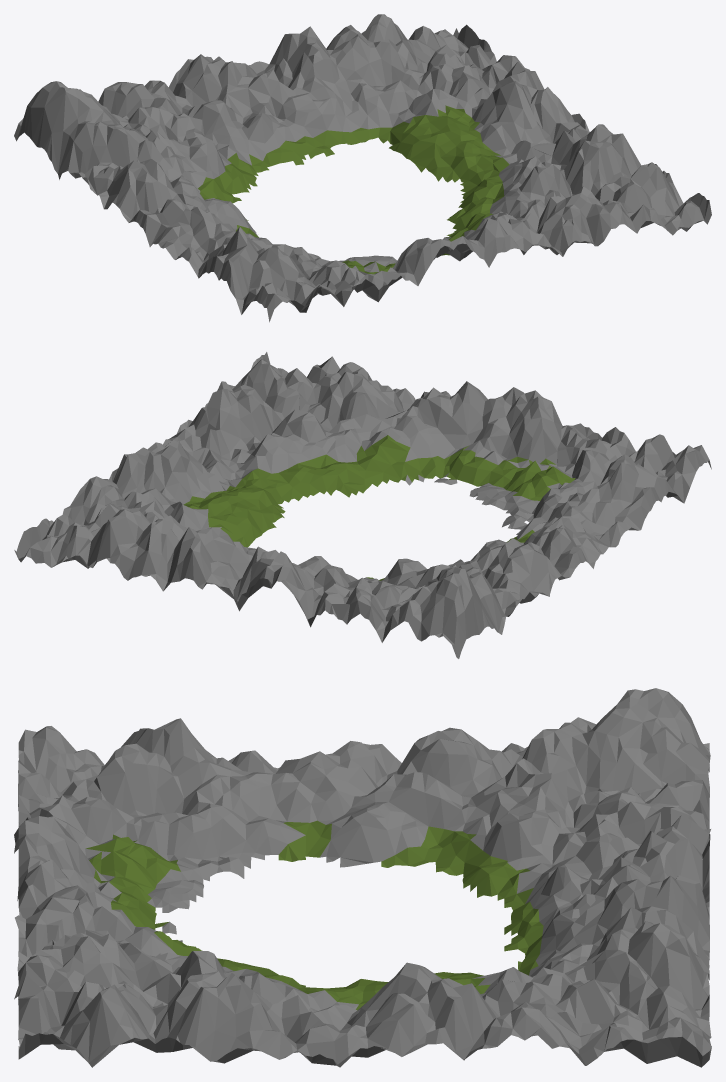
The model's file is Terrain.fbx.
The picture shows the model from 3 angles, top to bottom: view 1: azimuth 30°, elevation 25°; view 2: azimuth 150°, elevation 25°; view 3: azimuth 270°, elevation 25°; orthographic projection. The views are drawn at different scales.
Visible parts, largest first — view 1: Plane; view 2: Plane; view 3: Plane.
Boxes of the visible parts, bbox=[...] form: Plane: bbox=[14, 14, 711, 322]; Plane: bbox=[14, 352, 711, 658]; Plane: bbox=[14, 688, 711, 1067].
Size of the model in its own units: 2017 by 392 by 2020.
